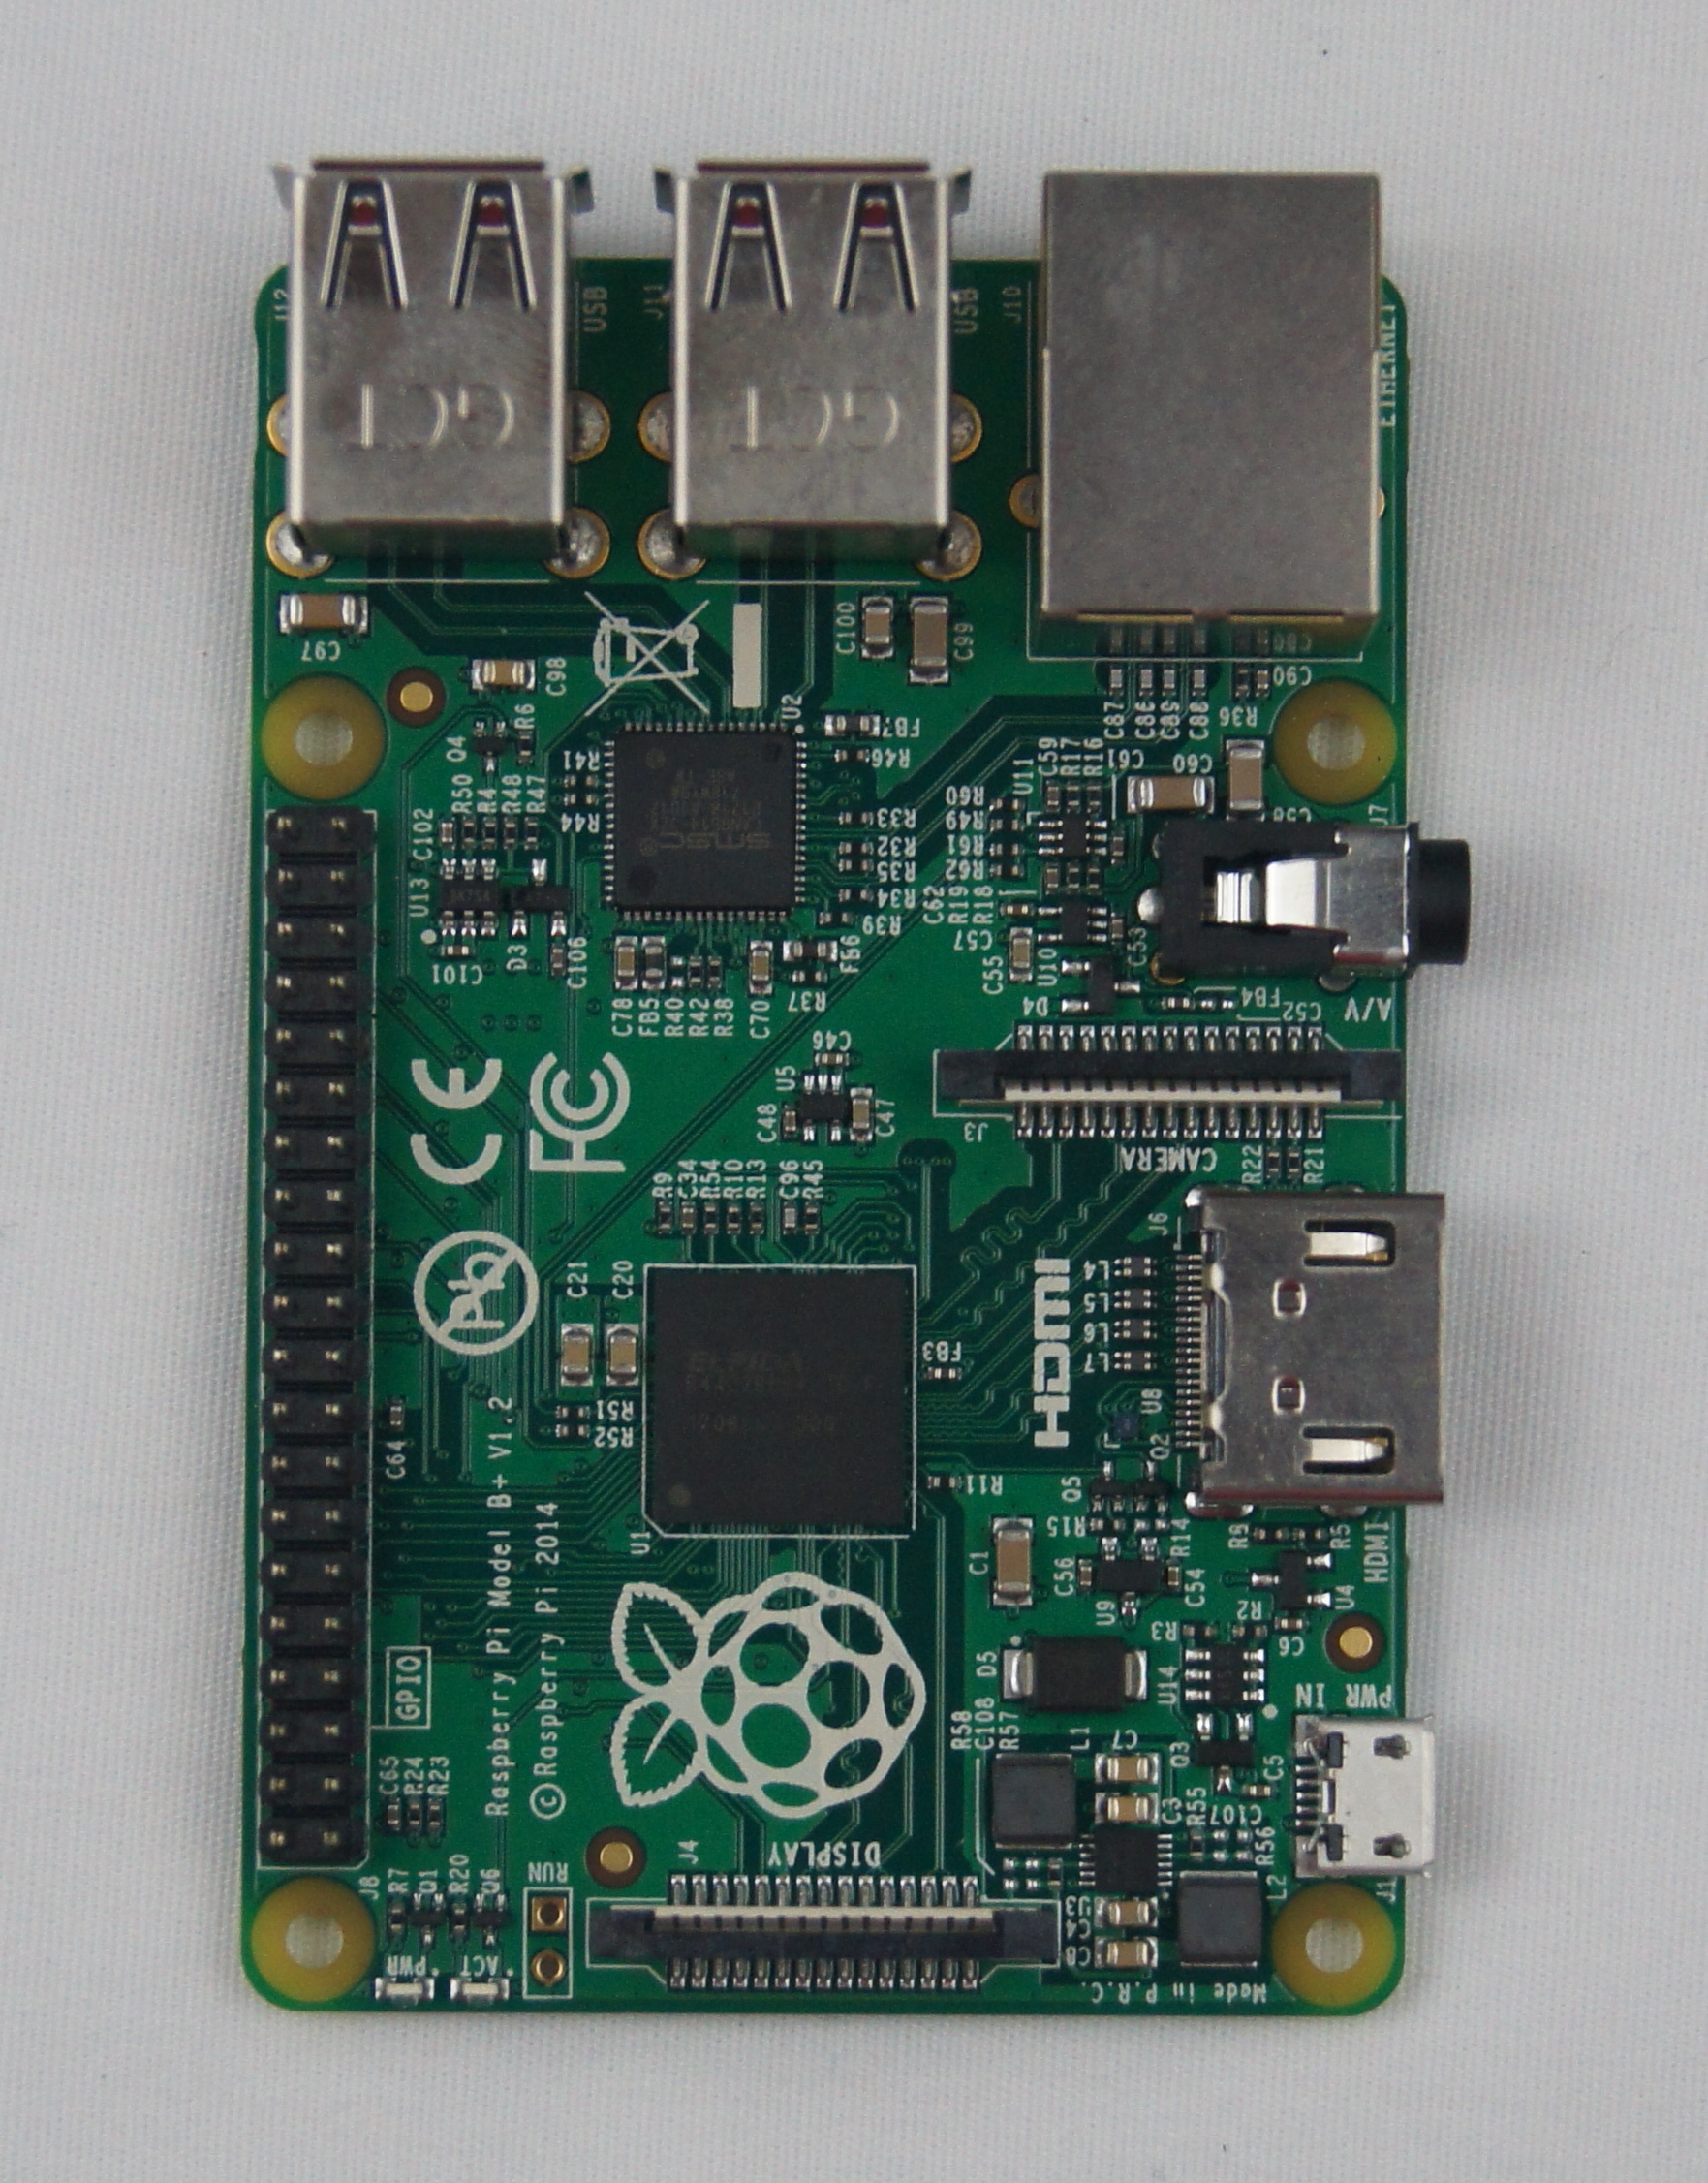resistor: (836, 888, 875, 905), (748, 1203, 767, 1235), (790, 967, 829, 983), (836, 858, 875, 874), (563, 773, 597, 790), (553, 1425, 590, 1441), (562, 790, 599, 806), (817, 911, 852, 927), (838, 840, 873, 856), (835, 748, 870, 764), (1233, 666, 1251, 698), (656, 1200, 672, 1233), (702, 1201, 718, 1235), (1295, 1526, 1325, 1543), (555, 1405, 592, 1419), (838, 812, 875, 826), (990, 796, 1022, 812), (450, 1907, 468, 1935), (989, 843, 1024, 858), (925, 1474, 960, 1488), (725, 1203, 741, 1233), (707, 957, 721, 991), (990, 861, 1024, 875), (1182, 1623, 1215, 1637), (1233, 1623, 1267, 1637), (1187, 1832, 1205, 1859), (427, 1802, 443, 1830), (803, 1205, 819, 1233), (687, 959, 703, 987), (461, 817, 477, 845), (1256, 1527, 1285, 1543), (1084, 783, 1102, 808), (501, 819, 517, 845), (517, 732, 533, 758), (989, 819, 1022, 831), (1065, 785, 1083, 808), (1267, 1148, 1281, 1177), (1288, 1148, 1302, 1177), (1065, 865, 1081, 890), (1086, 866, 1102, 891), (408, 1802, 422, 1829), (482, 819, 496, 845), (1047, 1861, 1061, 1887), (524, 820, 539, 845), (390, 1907, 402, 1931)
